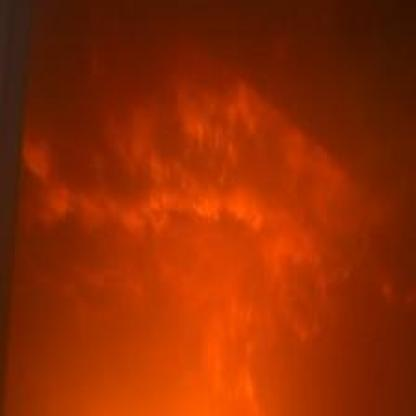fire: (16, 68, 367, 400)
